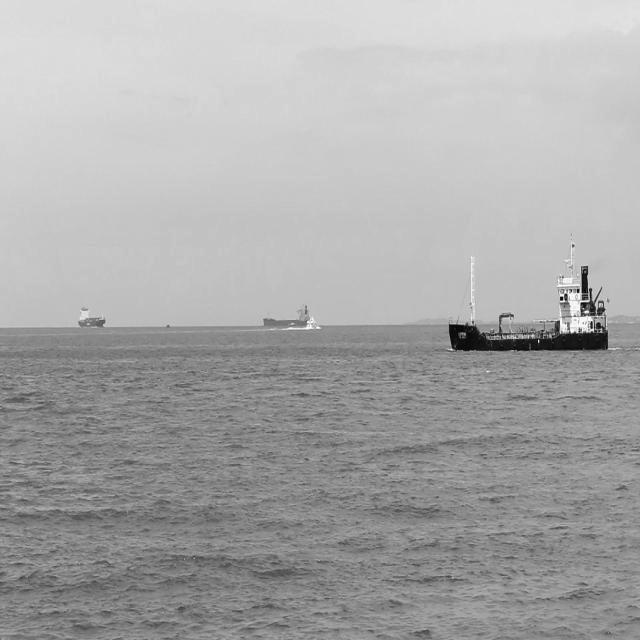ship: (446, 230, 614, 354), (260, 298, 311, 332), (76, 301, 108, 329), (304, 312, 320, 332)
